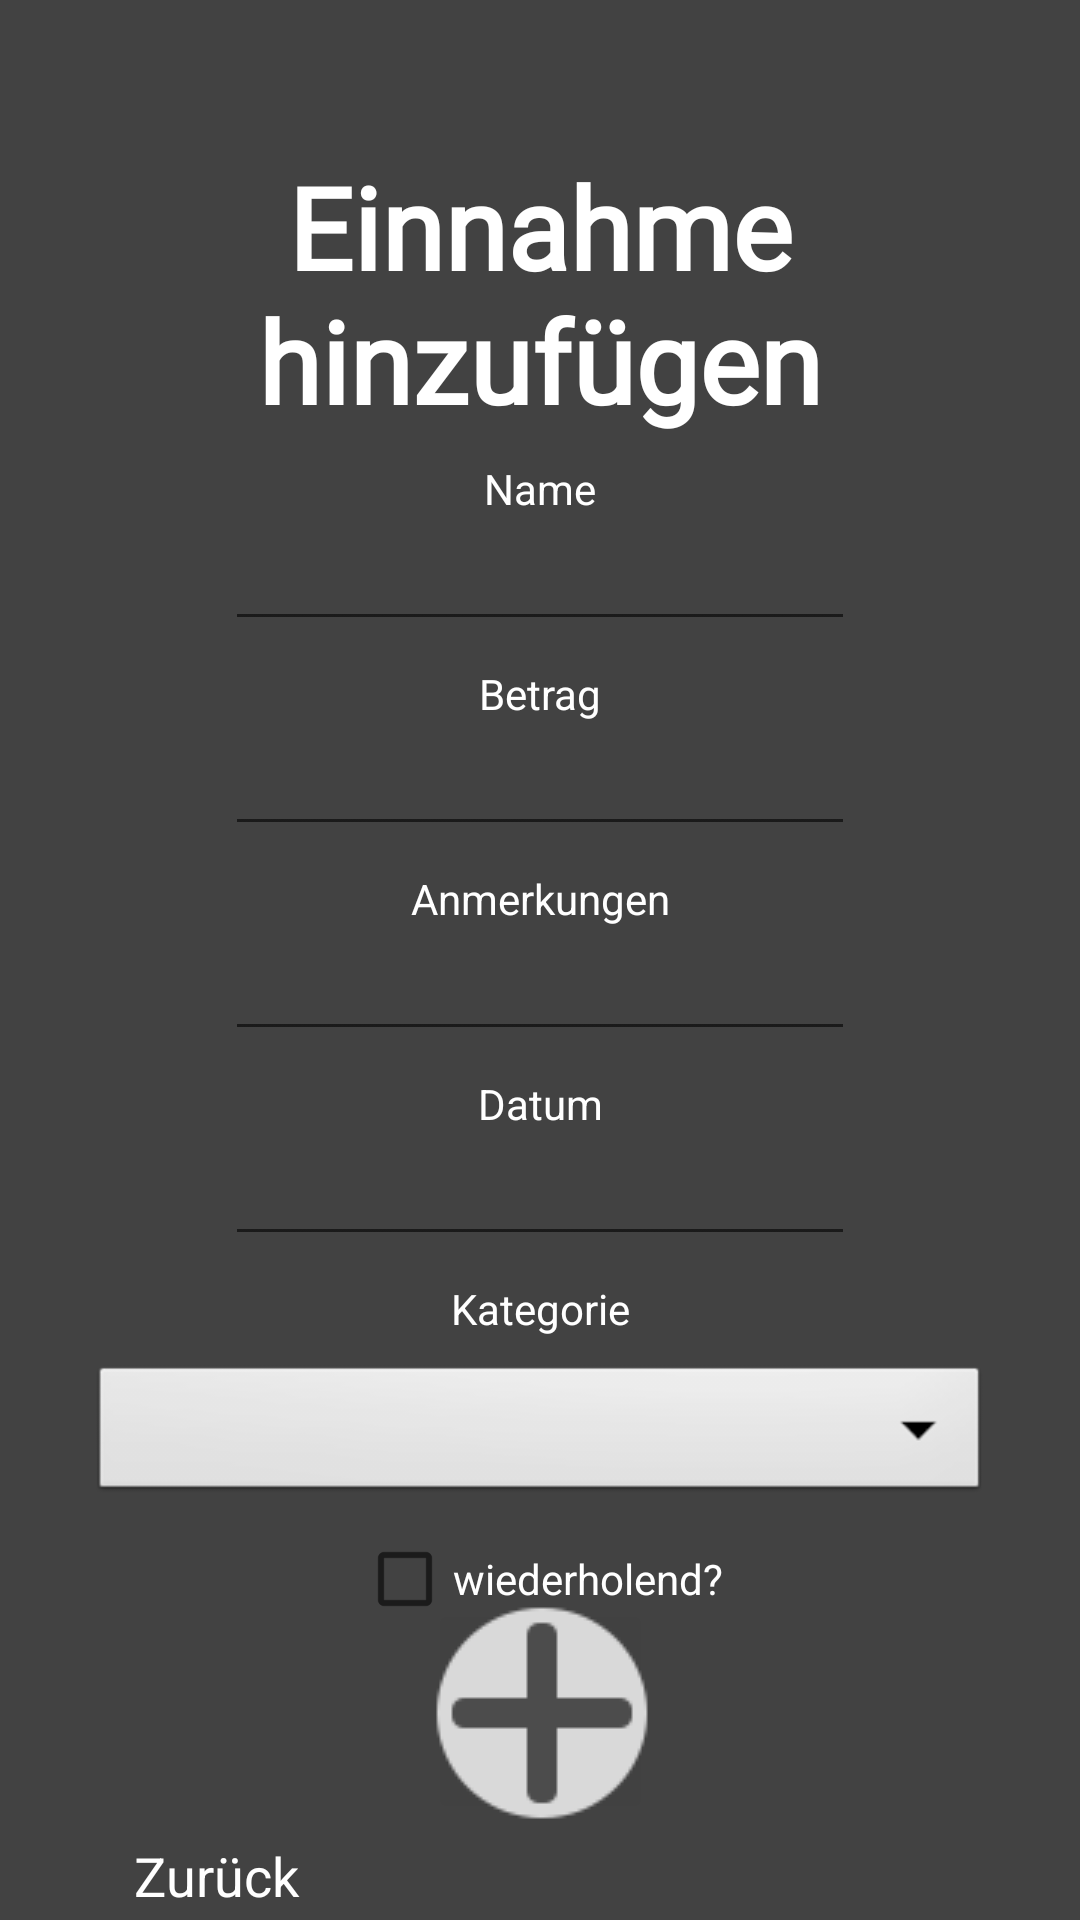

Locate icon controls on the screen. Image size 1080 × 1920, boxes as [x1=x1, y1=y1, x2=x2, y2=y2].
plus: [x1=436, y1=1607, x2=648, y2=1819]
